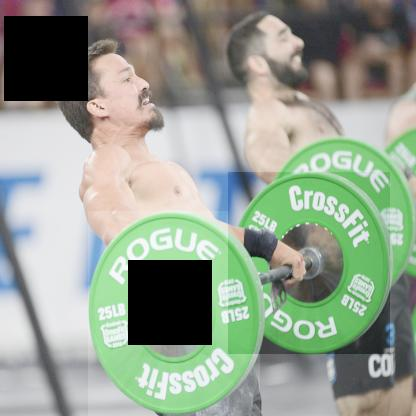barbell: (89, 212, 261, 416), (229, 173, 391, 355)
